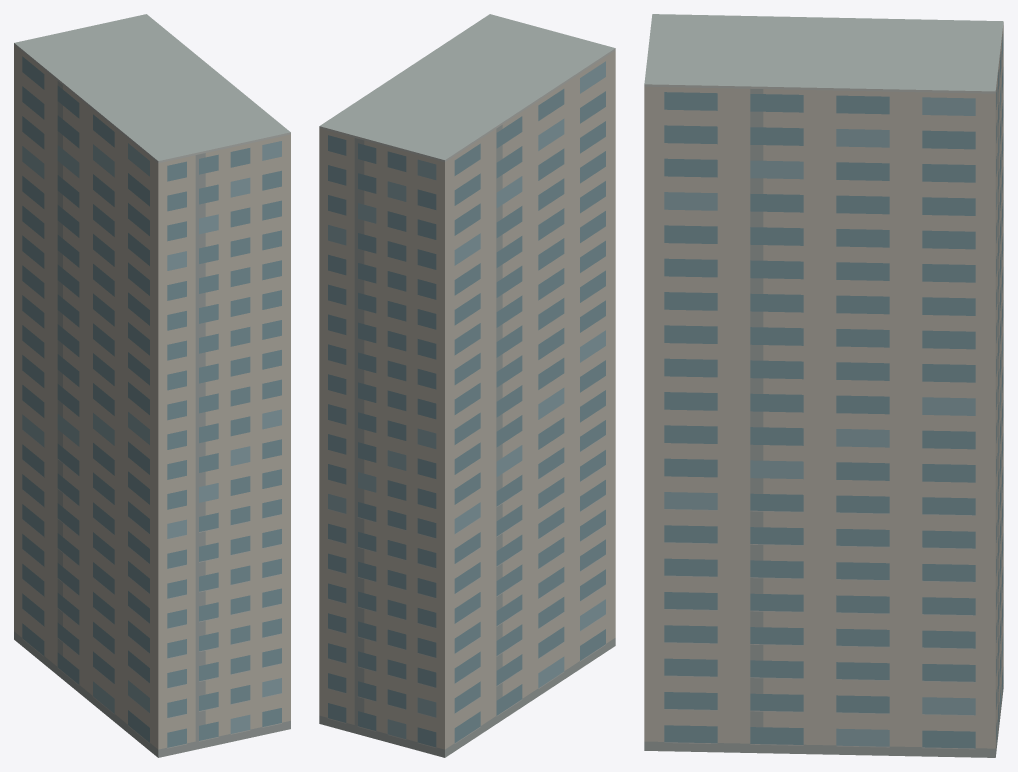
File: residential-6ad315a3-8c14-4fdf-8711-3e75c0950c4a.glb
3 views of the same model, side by side, from view 1: azimuth 30°, elevation 25°; view 2: azimuth 150°, elevation 25°; view 3: azimuth 270°, elevation 25° (orthographic). The views are drawn at different scales.
Visible parts, largest first — view 1: residential-6ad315a3-8c14-4fdf-8711-3e75c0950c4a.tmp; view 2: residential-6ad315a3-8c14-4fdf-8711-3e75c0950c4a.tmp; view 3: residential-6ad315a3-8c14-4fdf-8711-3e75c0950c4a.tmp.
Part boxes in pixels (x1,y1,x2,y2): residential-6ad315a3-8c14-4fdf-8711-3e75c0950c4a.tmp: (14, 14, 290, 757); residential-6ad315a3-8c14-4fdf-8711-3e75c0950c4a.tmp: (319, 14, 615, 757); residential-6ad315a3-8c14-4fdf-8711-3e75c0950c4a.tmp: (644, 14, 1003, 757).
Bounding box in the file's own units: 17.2 × 69 × 33.72.
